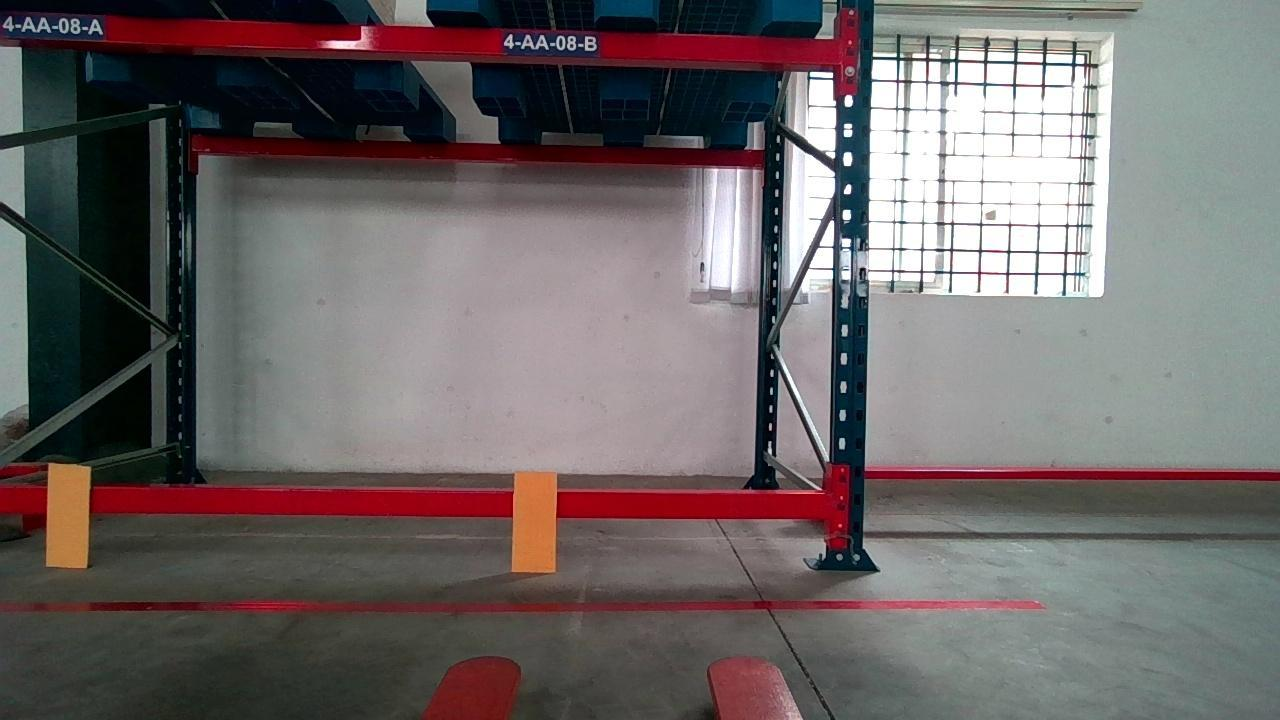h_rack: (3, 12, 842, 63), (0, 484, 833, 519)
orange_strip: (512, 472, 560, 576), (47, 464, 91, 565)
red_line: (0, 596, 1043, 611)
